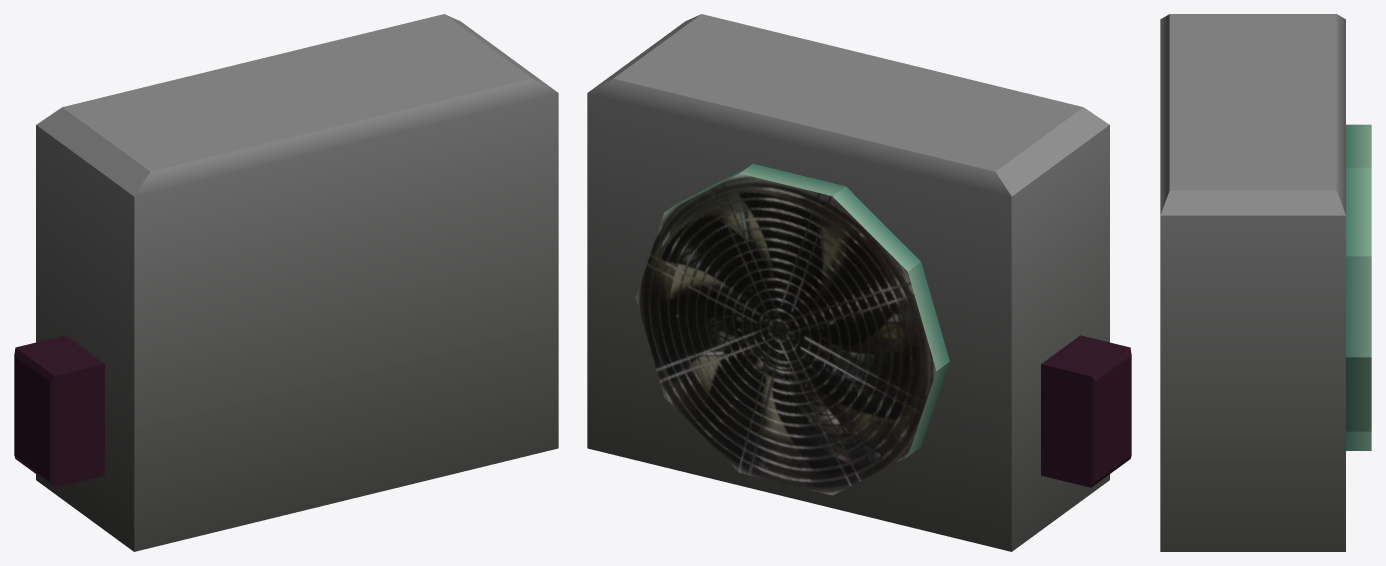
File: Vent-01.fbx
3 renders of one model, left to right at view 1: azimuth 30°, elevation 25°; view 2: azimuth 150°, elevation 25°; view 3: azimuth 270°, elevation 25°, orthographic. The views are drawn at different scales.
Parts seen in each view (by area): view 1: pCube4; view 2: pCube4; view 3: pCube4.
Boxes of the visible parts, x1,y1,x2,y2 form: pCube4: (14,14,558,551); pCube4: (587,14,1131,551); pCube4: (1160,14,1371,551).
Bounding box in the file's own units: 5.63 × 4.18 × 2.28.
Materials: 1 (1 with a texture image).
